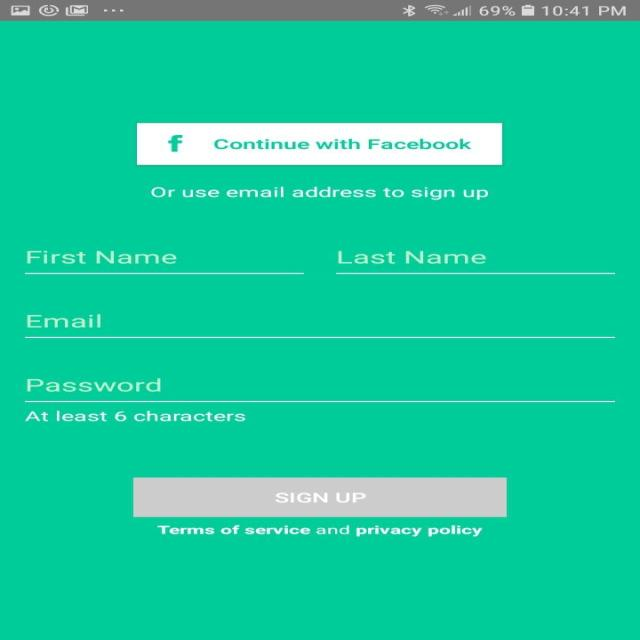EditText: (24, 377, 615, 403), (24, 314, 615, 338), (24, 250, 304, 275), (335, 250, 615, 274)
Text: (149, 187, 488, 200), (156, 524, 482, 537), (23, 409, 245, 422), (27, 250, 176, 264), (337, 250, 485, 264), (26, 377, 160, 392), (26, 314, 100, 328)
TextButton: (136, 122, 502, 166), (132, 477, 506, 517)
